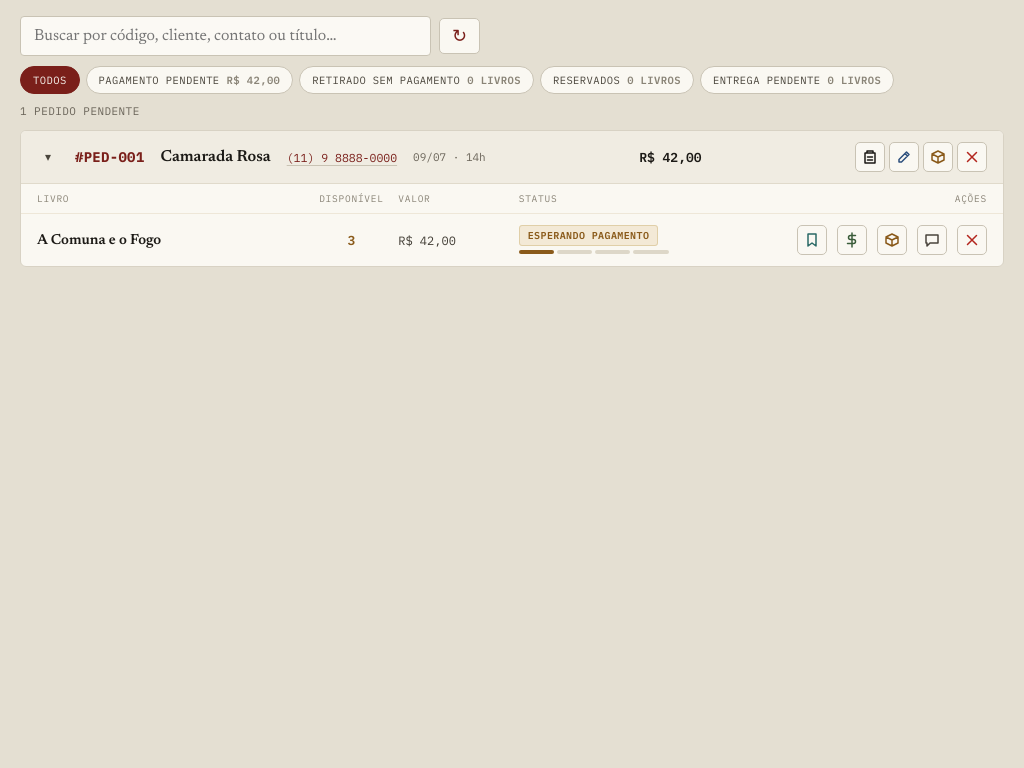
Test: Backoffice — Pedidos (linhas por unidade) › erro 400 na transição (sem estoque) mostra alerta
The width and height of the screenshot is (1024, 768).
Click the button named "reservar" at (812, 240), box [797,225,827,255]
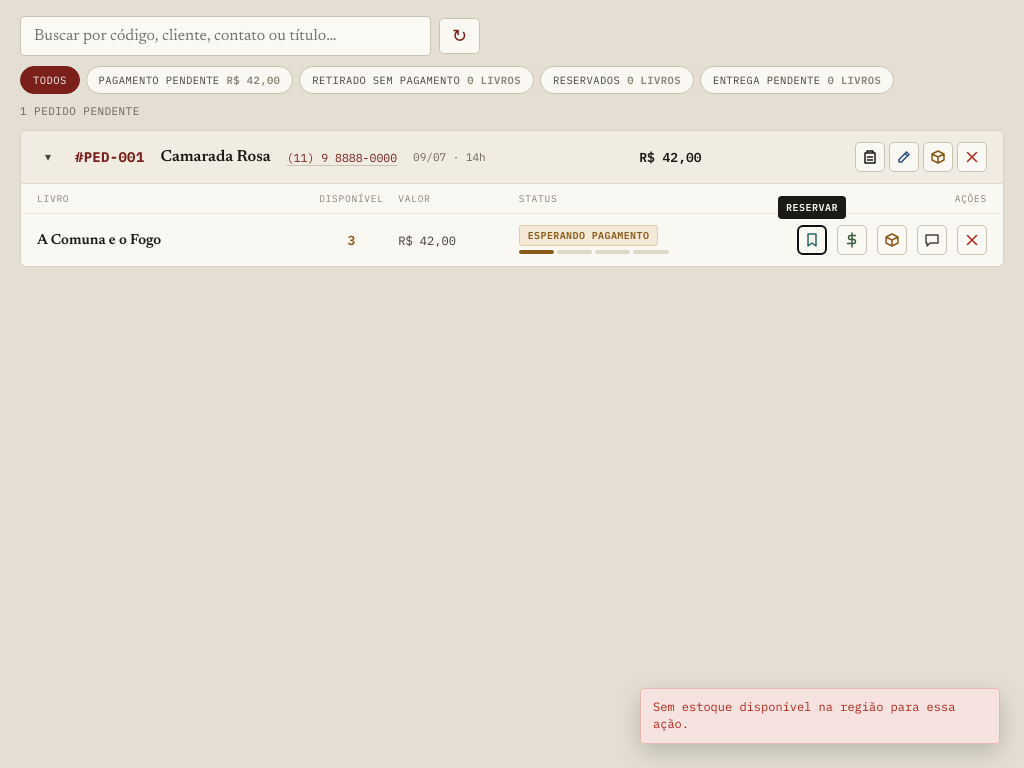
Result: the text "Sem estoque disponível na região para essa ação." is shown at [640,688,1000,744]
